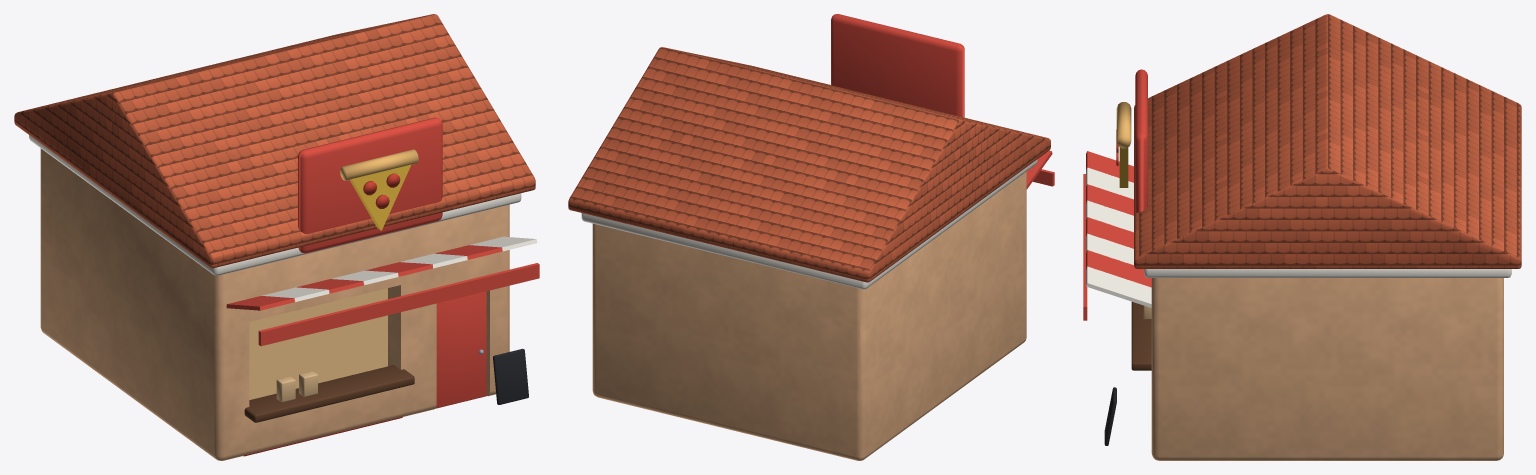
The model's file is restaurant_pizza.gltf.
The picture shows the model from 3 angles, left to right: view 1: azimuth 30°, elevation 25°; view 2: azimuth 150°, elevation 25°; view 3: azimuth 270°, elevation 25°; orthographic projection. The views are drawn at different scales.
Parts seen in each view (by area): view 1: restaurant_pizza_mesh, INT_door_restaurant_pizza, INT_counter_pizza; view 2: restaurant_pizza_mesh; view 3: restaurant_pizza_mesh, INT_counter_pizza.
Boxes of the visible parts, box(x1,y1,x2,y2) form: restaurant_pizza_mesh: box(14, 14, 539, 460); INT_door_restaurant_pizza: box(435, 291, 486, 408); INT_counter_pizza: box(244, 365, 414, 422); restaurant_pizza_mesh: box(568, 14, 1054, 460); restaurant_pizza_mesh: box(1083, 14, 1521, 460); INT_counter_pizza: box(1131, 302, 1151, 370).
Size of what is drawn, in the model's own units: 7.3 by 6.64 by 8.71.
14 materials, 2 textured.
